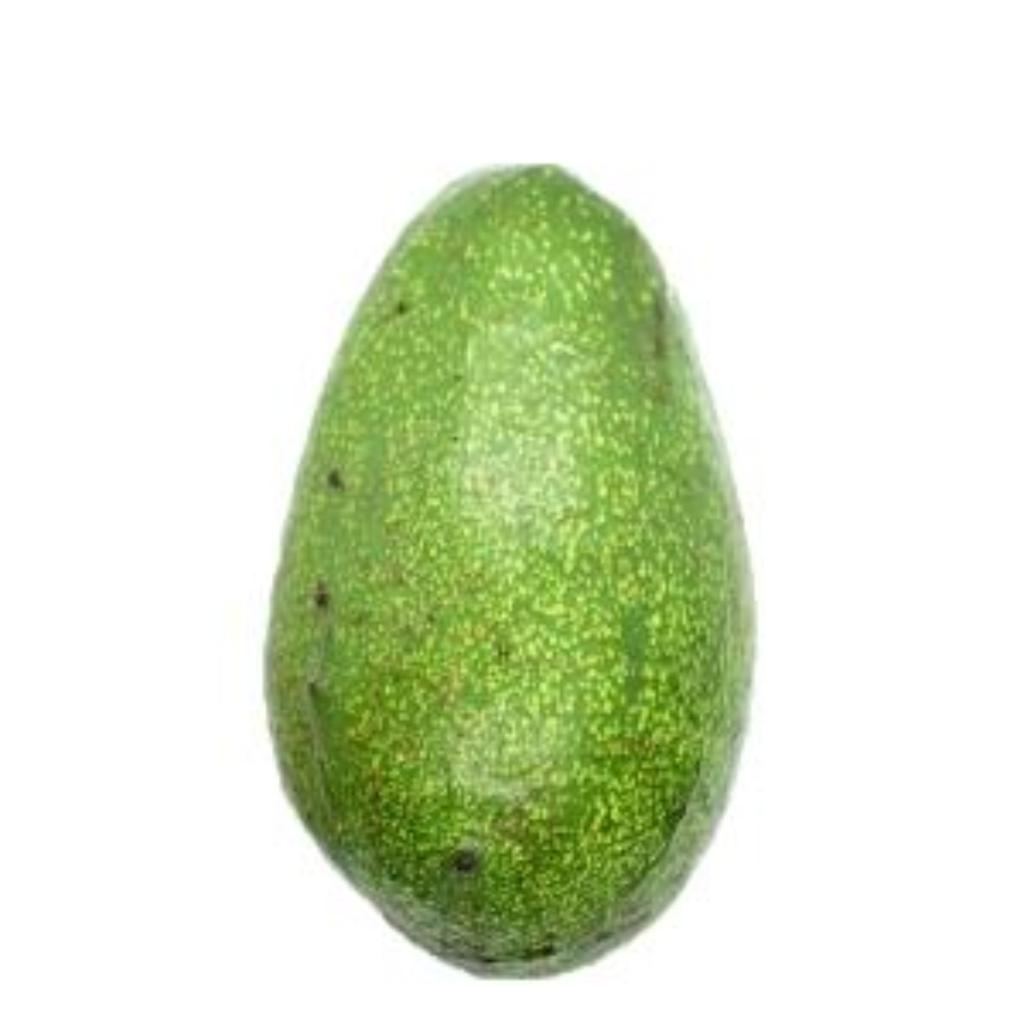cercospora: (259, 152, 771, 988)
